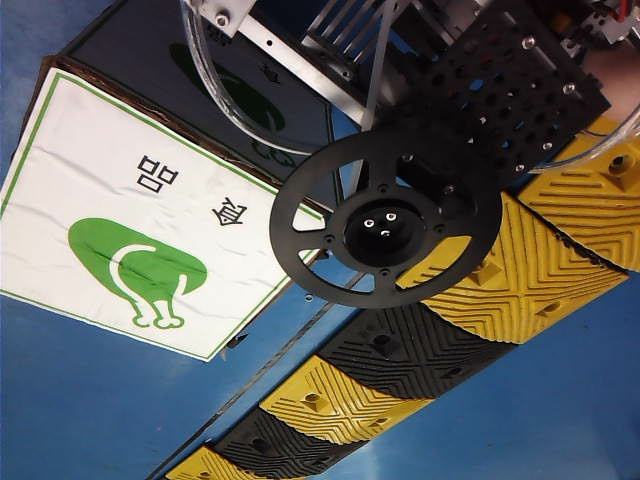Cube_food: (60, 148, 258, 341)
